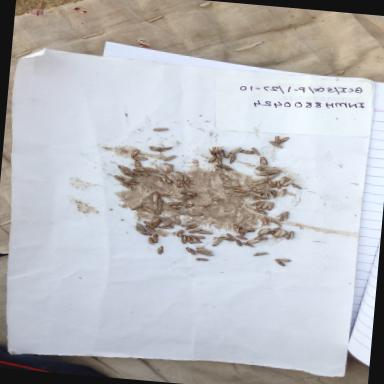pbw: (232, 192, 252, 202), (216, 163, 236, 172), (218, 172, 232, 184), (131, 159, 145, 171), (208, 144, 222, 156), (219, 148, 233, 160), (229, 145, 244, 156), (128, 154, 148, 162), (250, 146, 265, 156), (268, 141, 284, 150), (221, 182, 239, 190), (210, 197, 228, 205), (274, 256, 292, 264), (238, 226, 256, 234), (180, 220, 198, 228), (195, 247, 213, 255), (130, 201, 143, 212), (280, 178, 294, 188), (128, 148, 142, 158), (178, 194, 195, 202), (195, 250, 214, 257), (212, 164, 225, 174), (210, 238, 223, 248), (257, 156, 270, 166), (180, 173, 190, 186), (206, 154, 219, 164), (252, 208, 268, 216), (188, 227, 204, 235), (252, 234, 268, 242), (150, 184, 164, 193), (159, 224, 177, 231), (262, 167, 280, 174), (289, 182, 304, 190), (278, 136, 290, 146), (253, 250, 268, 258), (258, 226, 270, 236), (278, 210, 290, 220), (179, 190, 199, 196), (142, 166, 162, 172), (274, 258, 286, 268), (111, 175, 126, 183), (148, 172, 165, 179), (152, 127, 169, 134), (132, 167, 151, 173), (132, 172, 151, 178), (138, 230, 154, 237), (250, 198, 264, 206), (122, 184, 136, 192), (162, 154, 176, 162), (182, 202, 196, 210), (118, 164, 132, 172), (232, 186, 246, 194), (245, 238, 261, 245), (188, 234, 202, 242), (246, 190, 262, 197), (186, 223, 200, 231), (218, 236, 234, 243), (228, 154, 239, 164), (237, 225, 247, 236), (238, 148, 256, 154), (164, 200, 182, 206), (185, 246, 197, 255), (162, 194, 180, 200), (268, 226, 281, 234), (148, 146, 165, 152), (121, 178, 138, 184), (154, 206, 164, 216), (272, 228, 282, 238), (277, 230, 288, 239), (142, 206, 156, 213), (240, 242, 254, 249), (162, 164, 174, 172), (226, 232, 238, 240), (170, 204, 186, 210), (188, 212, 204, 218), (268, 172, 280, 180), (214, 156, 222, 168), (172, 209, 188, 215), (144, 222, 156, 230), (152, 215, 168, 221), (270, 219, 282, 227), (146, 236, 156, 245), (254, 188, 269, 194), (252, 180, 267, 186), (265, 179, 275, 188), (252, 196, 270, 201), (255, 171, 270, 177), (162, 175, 172, 184), (232, 224, 242, 233), (278, 175, 286, 186), (280, 187, 288, 198), (145, 225, 156, 233), (276, 215, 288, 222), (254, 166, 268, 172), (198, 230, 212, 236), (262, 201, 271, 210), (153, 234, 161, 244), (234, 239, 244, 247), (274, 134, 282, 144), (176, 171, 184, 181), (185, 236, 195, 244), (136, 222, 146, 230), (126, 168, 134, 178), (180, 234, 188, 244), (188, 240, 204, 245), (156, 245, 164, 255), (283, 230, 291, 240), (267, 202, 275, 212), (260, 218, 270, 226), (254, 202, 264, 210), (266, 192, 276, 200), (166, 217, 176, 225), (195, 256, 208, 262), (271, 190, 280, 198), (178, 179, 186, 188), (175, 178, 182, 188), (152, 194, 159, 204), (177, 228, 184, 238), (192, 235, 206, 240), (236, 235, 249, 240), (152, 218, 160, 226), (155, 198, 163, 206), (159, 174, 167, 182), (123, 182, 139, 186), (158, 192, 173, 196), (198, 204, 212, 208), (122, 177, 136, 181), (288, 231, 294, 240), (176, 218, 182, 225), (275, 182, 282, 188)
